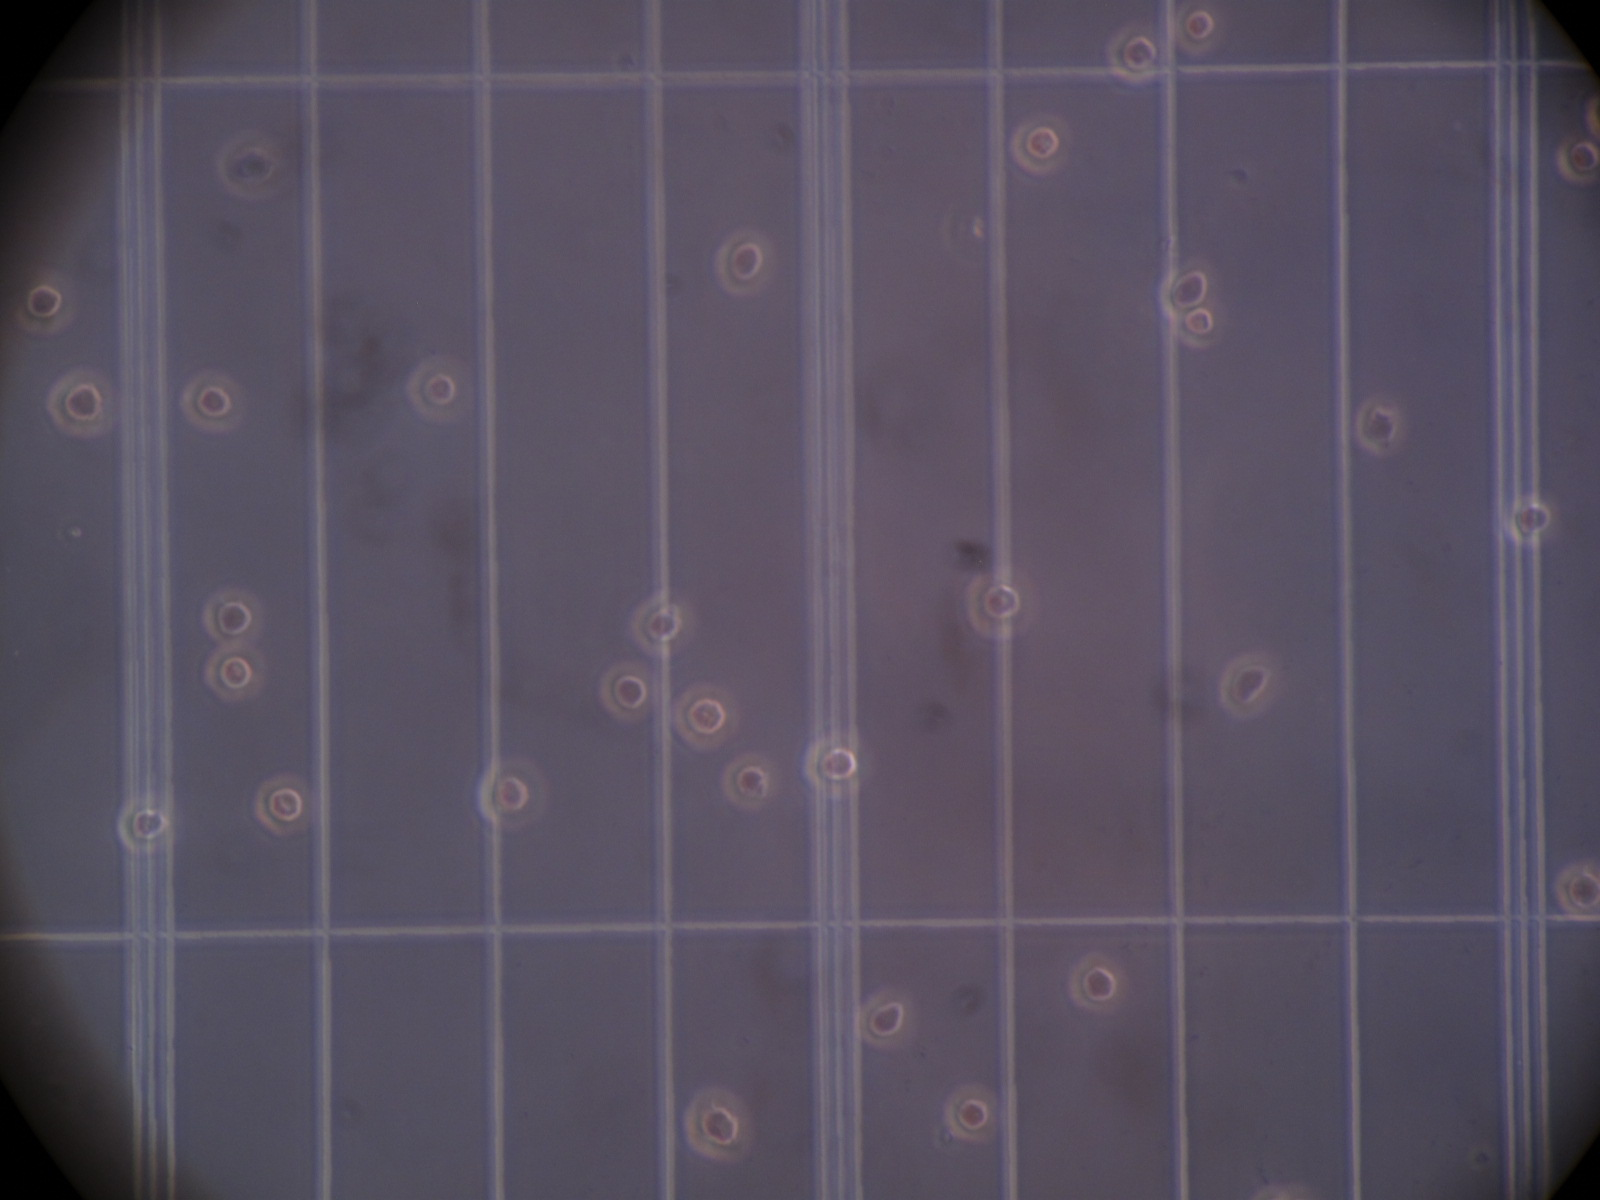hemo: (965, 570, 1038, 642), (477, 758, 549, 831), (687, 1087, 752, 1162), (671, 679, 738, 753), (406, 352, 476, 420), (215, 130, 283, 200), (627, 589, 695, 658), (180, 366, 246, 435), (47, 371, 112, 437), (251, 770, 314, 837), (716, 227, 775, 297), (202, 639, 266, 702), (15, 268, 76, 334), (1221, 650, 1277, 720), (803, 734, 863, 795), (202, 587, 265, 645), (1068, 953, 1128, 1013), (598, 658, 653, 724), (1010, 120, 1071, 178), (944, 1082, 999, 1142), (117, 798, 174, 853), (1105, 24, 1158, 82), (723, 753, 775, 811), (1356, 398, 1405, 458), (855, 992, 906, 1047), (1555, 863, 1600, 923), (1160, 265, 1212, 314), (1174, 3, 1221, 55), (1506, 497, 1552, 546), (1556, 135, 1600, 187), (1173, 305, 1225, 347)
